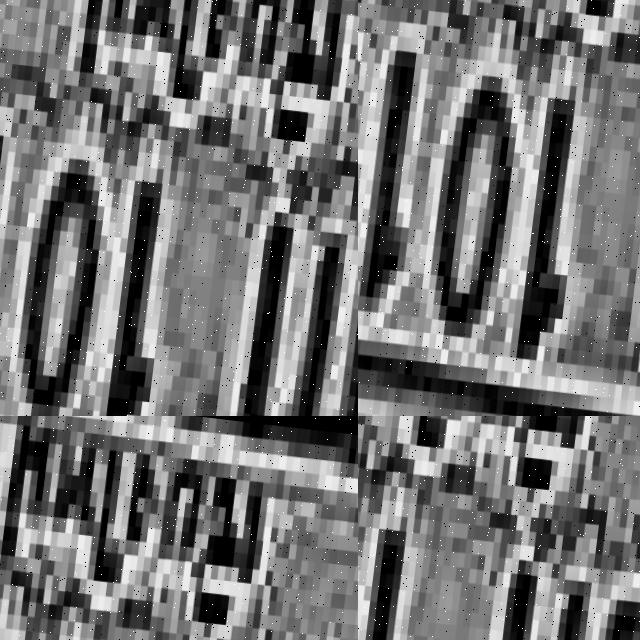license-plate: (0, 0, 358, 416), (358, 0, 640, 374), (0, 416, 358, 640), (358, 416, 640, 640)
